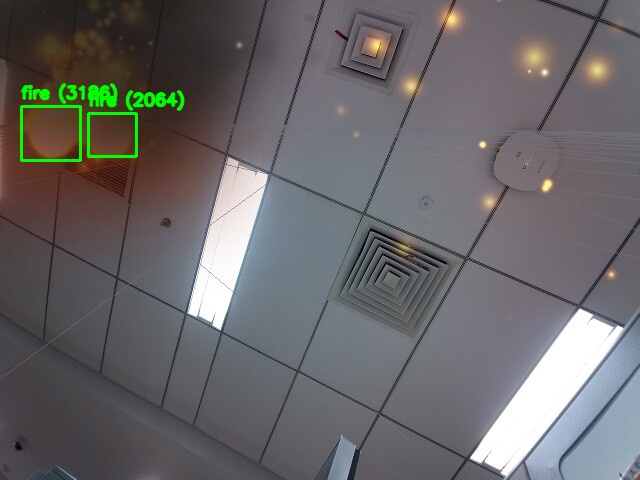fire: (21, 106, 80, 160), (88, 113, 136, 156)
